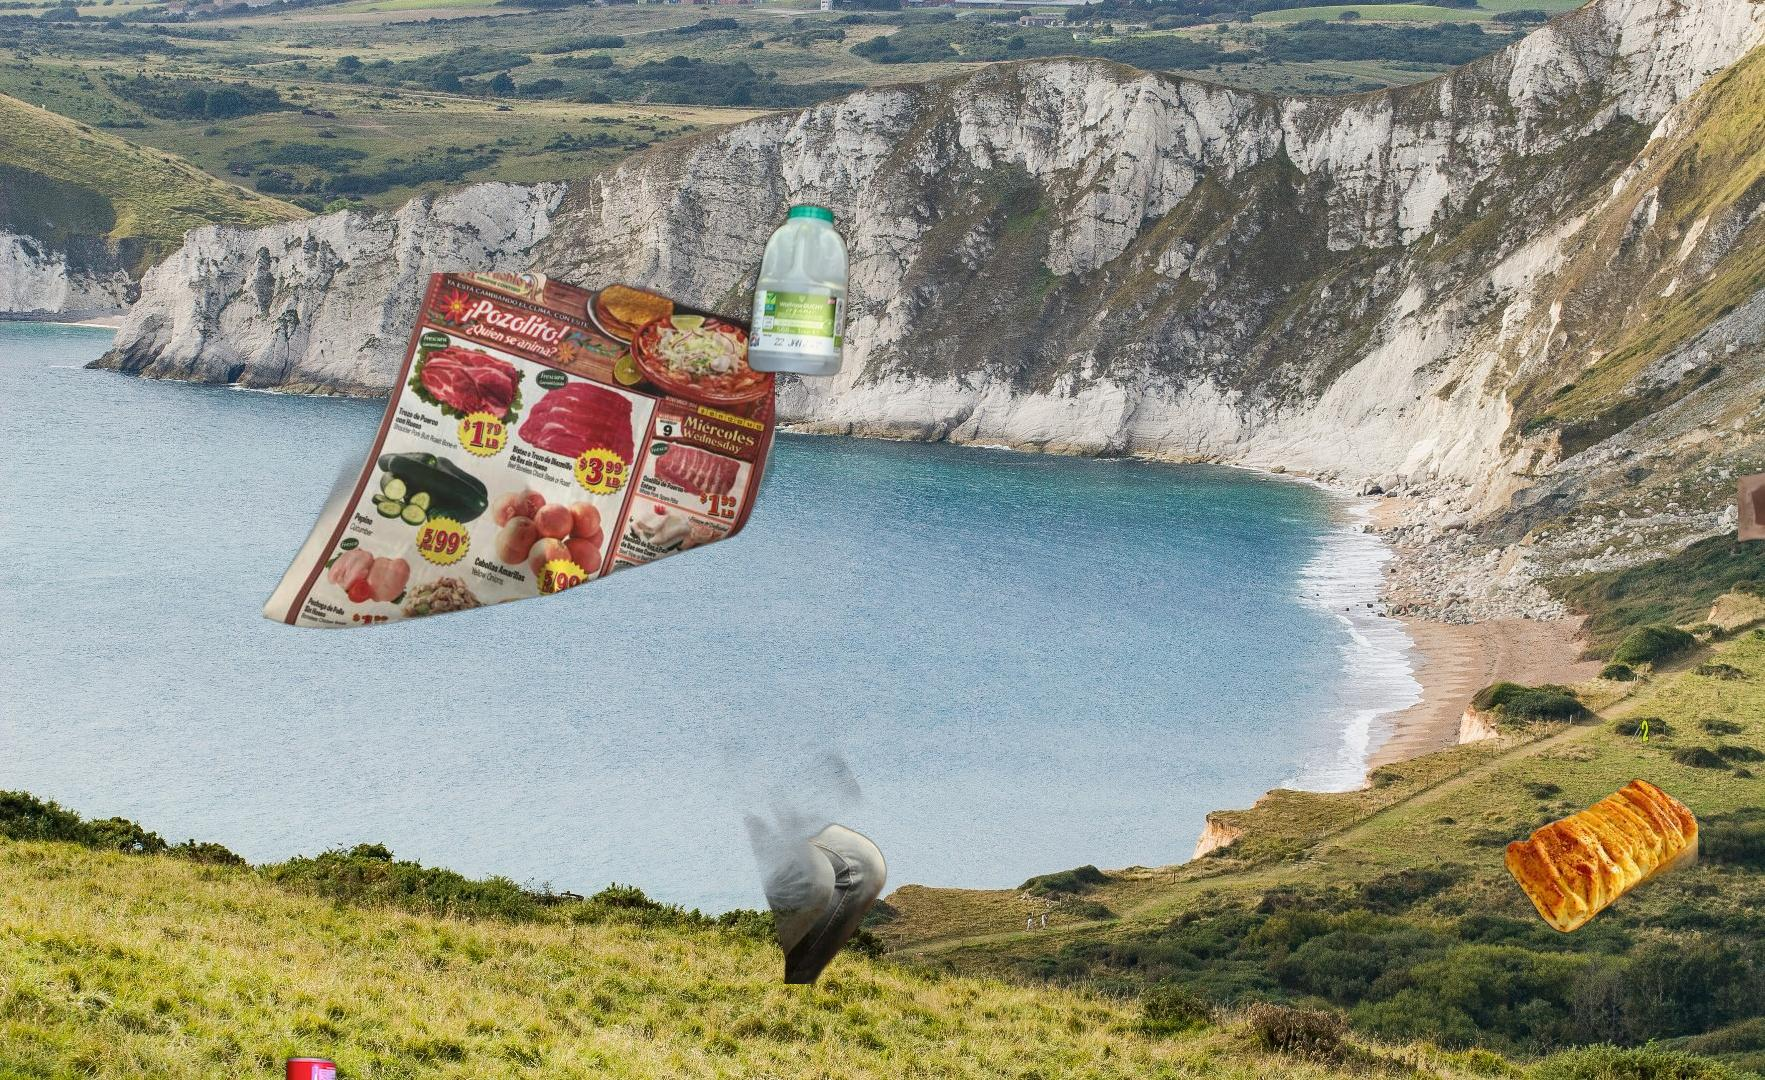biological: (1504, 775, 1698, 967)
glass: (1138, 999, 1581, 1080), (1739, 398, 1765, 551)
metal-cans: (279, 1050, 342, 1080)
paper: (263, 273, 775, 633)
paper-bag: (707, 684, 942, 984)
plastic-bottles: (743, 198, 854, 382)
trashbox-cardboard: (1650, 1004, 1765, 1080)
